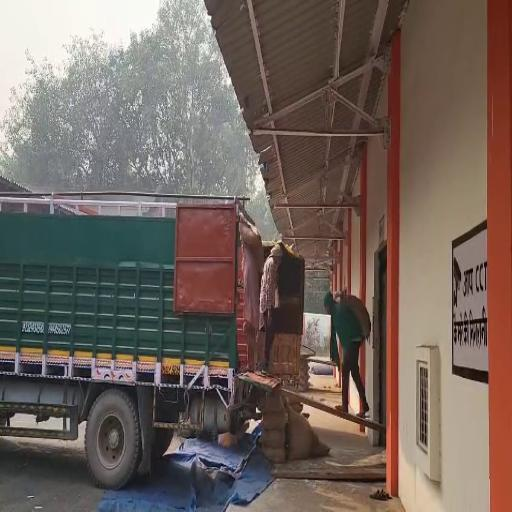bag: (341, 286, 372, 342), (238, 206, 264, 271)
